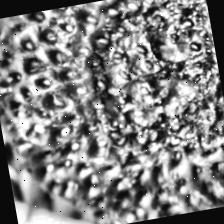Anthracnose Fruit Rot: (46, 0, 224, 196)
